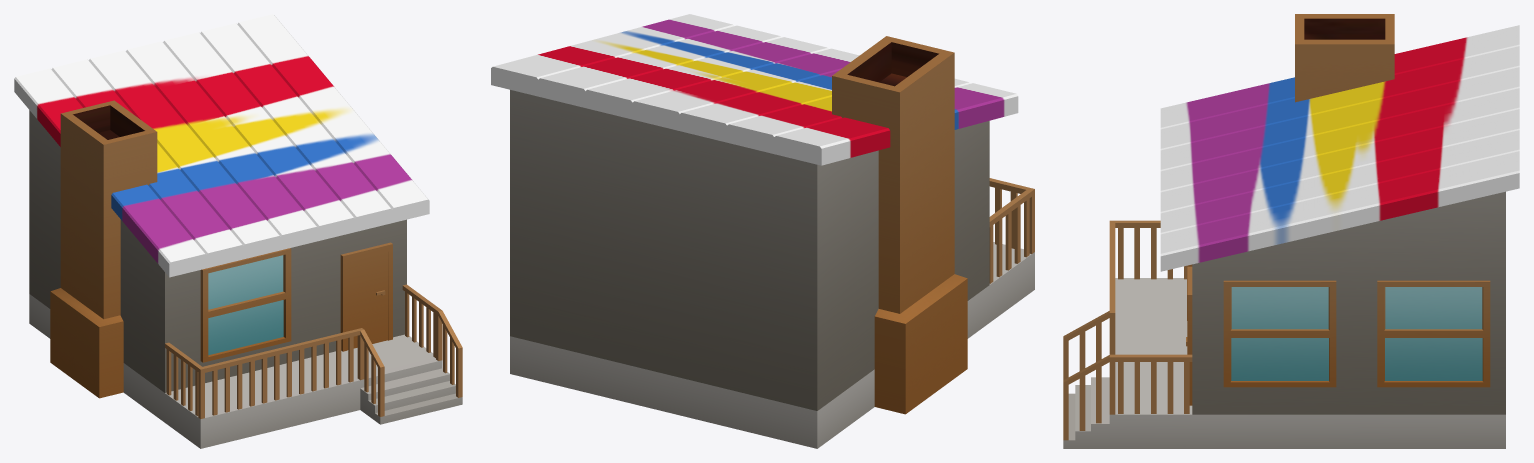
File: house.obj
3 views of the same model, side by side, from view 1: azimuth 30°, elevation 25°; view 2: azimuth 150°, elevation 25°; view 3: azimuth 270°, elevation 25° (orthographic). The views are drawn at different scales.
Parts seen in each view (by area): view 1: group1 pCube52, group1 wallswall1, group1 pCube4, group1 wallwalls, group1 pCube20Windows, group1 roof_sectionroof2, group1 roof_sectionroof8, group1 roof_sectionroof4, group1 roof_sectionroof1, group1 roof_sectionroof6, group1 roof_sectionroof12, roof_sectionroof10 group1 (+9 smaller); view 2: group1 wallswall2, group1 pCube52, group1 wallwalls, group1 pCube53, group1 roof_sectionroof13, group1 roof_sectionroof5, group1 roof_sectionroof3, group1 roofroof_section, group1 roof_sectionroof7, group1 roof_sectionroof9, group1 roof_sectionroof11, group1 roof_sectionroof4 (+7 smaller); view 3: group1 wallswall3, group1 pCube4, group1 WindowspCube50, group1 WindowspCube51, group1 pCube53, group1 pCube52, group1 roof_sectionroof1, group1 roofroof_section, group1 roof_sectionroof6, group1 roof_sectionroof8, group1 roof_sectionroof2, group1 roof_sectionroof4 (+11 smaller).
Part boxes in pixels (x1,y1,x2,y2): group1 pCube52: (50, 100, 157, 398); group1 wallswall1: (165, 219, 406, 392); group1 pCube4: (165, 334, 462, 448); group1 wallwalls: (29, 110, 164, 392); group1 pCube20Windows: (200, 248, 291, 362); group1 roof_sectionroof2: (278, 116, 392, 231); group1 roof_sectionroof8: (166, 143, 280, 259); group1 roof_sectionroof4: (241, 125, 355, 241); group1 roof_sectionroof1: (315, 107, 429, 222); group1 roof_sectionroof6: (203, 134, 317, 250); group1 roof_sectionroof12: (111, 184, 206, 277); roof_sectionroof10 group1: (148, 152, 243, 268); group1 wallswall2: (510, 90, 817, 410); group1 pCube52: (832, 36, 967, 414); group1 wallwalls: (817, 121, 989, 410); group1 pCube53: (510, 285, 989, 448); group1 roof_sectionroof13: (774, 117, 890, 165); group1 roof_sectionroof5: (585, 63, 730, 119); group1 roof_sectionroof3: (538, 52, 682, 107); group1 roofroof_section: (491, 40, 635, 96); group1 roof_sectionroof7: (632, 75, 777, 130); group1 roof_sectionroof9: (680, 86, 824, 142); group1 roof_sectionroof11: (727, 98, 841, 153); group1 roof_sectionroof4: (686, 37, 828, 75); group1 wallswall3: (1192, 191, 1505, 414); group1 pCube4: (1063, 278, 1192, 448); group1 WindowspCube50: (1377, 280, 1490, 387); group1 WindowspCube51: (1223, 280, 1336, 387); group1 pCube53: (1192, 414, 1505, 448); group1 pCube52: (1295, 14, 1394, 102); group1 roof_sectionroof1: (1160, 193, 1340, 271); group1 roofroof_section: (1340, 151, 1519, 229); group1 roof_sectionroof6: (1160, 130, 1340, 192); group1 roof_sectionroof8: (1160, 109, 1340, 171); group1 roof_sectionroof2: (1160, 172, 1340, 234); group1 roof_sectionroof4: (1160, 151, 1340, 213).
Bounding box in the file's own units: 4.45 × 3.85 × 5.52.
Materials: 1 (1 with a texture image).
